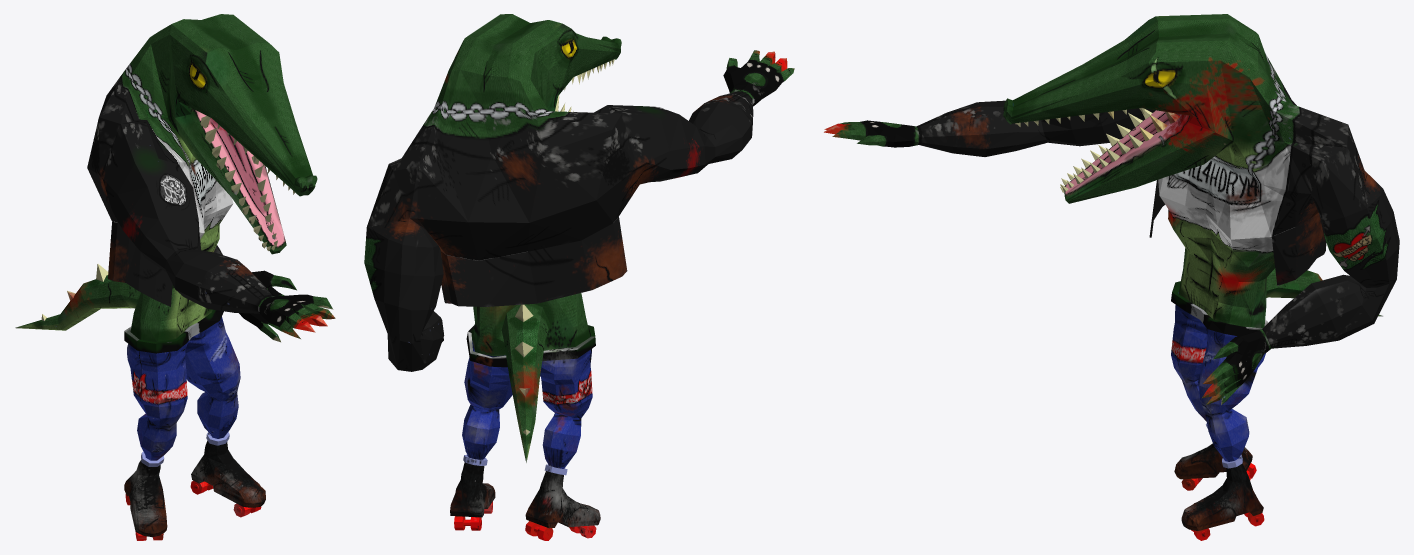
Rendered from cocodrilaBonesSelect_000012.obj.
3 renders of one model, left to right at view 1: azimuth 30°, elevation 25°; view 2: azimuth 150°, elevation 25°; view 3: azimuth 270°, elevation 25°, orthographic.
Visible parts, largest first — view 1: Crocodile.002_Cylinder.002; view 2: Crocodile.002_Cylinder.002; view 3: Crocodile.002_Cylinder.002.
Boxes of the visible parts, x1,y1,x2,y2 form: Crocodile.002_Cylinder.002: [15, 14, 335, 540]; Crocodile.002_Cylinder.002: [364, 14, 794, 540]; Crocodile.002_Cylinder.002: [824, 14, 1399, 540].
Bounding box in the file's own units: 3.27 × 6.62 × 7.02.
